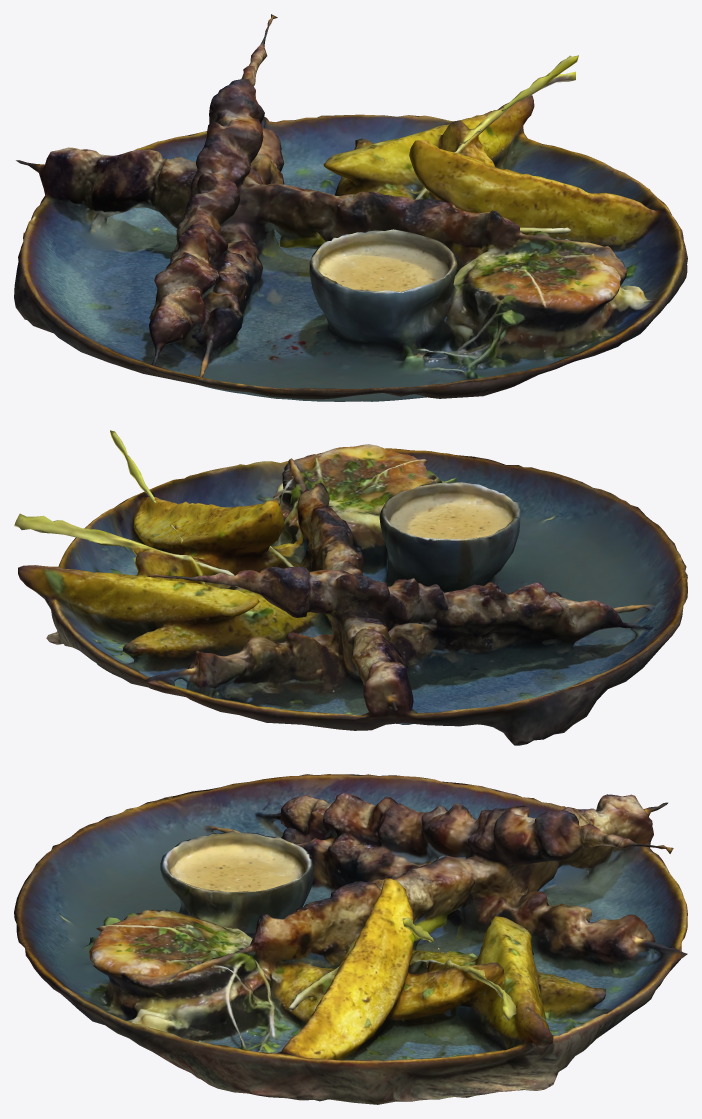
Rendered from brochettes-de-viande.glb.
3 views of the same model, one above another, from view 1: azimuth 30°, elevation 25°; view 2: azimuth 150°, elevation 25°; view 3: azimuth 270°, elevation 25° (orthographic). The views are drawn at different scales.
Parts seen in each view (by area): view 1: /ObjectCapture/Geometry/Mesh; view 2: /ObjectCapture/Geometry/Mesh; view 3: /ObjectCapture/Geometry/Mesh.
Boxes of the visible parts, x1,y1,x2,y2 form: /ObjectCapture/Geometry/Mesh: [14, 14, 687, 401]; /ObjectCapture/Geometry/Mesh: [14, 430, 687, 745]; /ObjectCapture/Geometry/Mesh: [14, 774, 687, 1104].
Bounding box in the file's own units: 0.2798 × 0.077 × 0.2719.
1 material, 1 textured.
